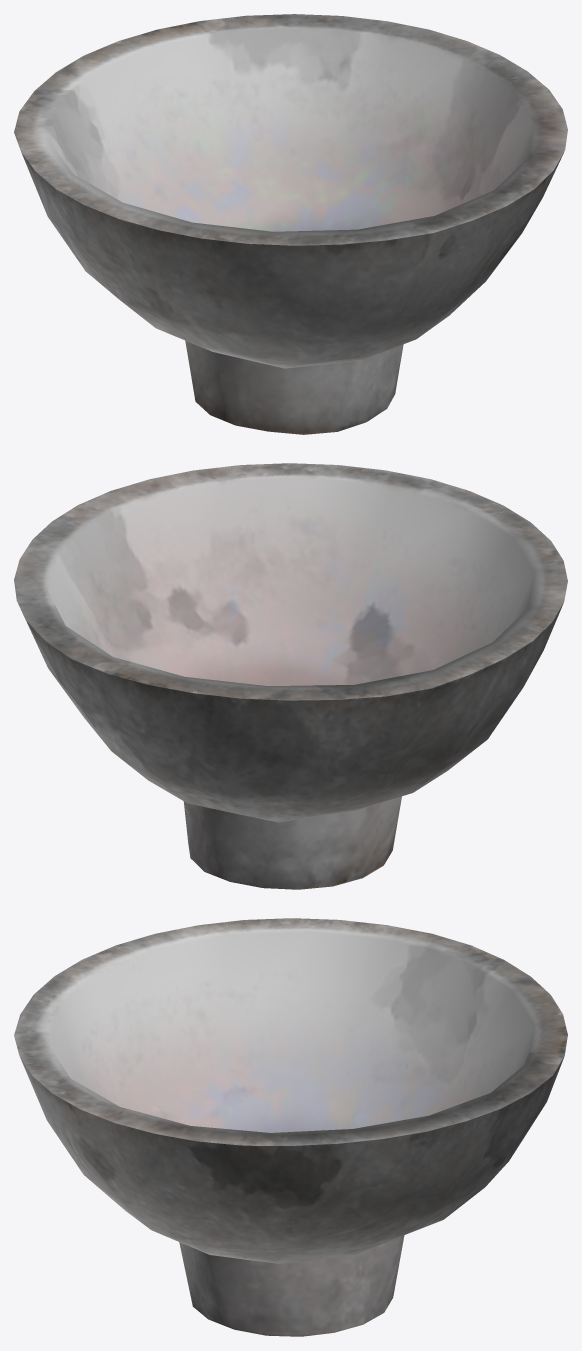
Rendered from SM_Potion_Props_Mortar_01_B.fbx.
3 views of the same model, one above another, from view 1: azimuth 30°, elevation 25°; view 2: azimuth 150°, elevation 25°; view 3: azimuth 270°, elevation 25° (orthographic).
Visible parts, largest first — view 1: SM_Potion_Props_Mortar_01_B_LOD0; view 2: SM_Potion_Props_Mortar_01_B_LOD0; view 3: SM_Potion_Props_Mortar_01_B_LOD0.
Part boxes in pixels (<box>): SM_Potion_Props_Mortar_01_B_LOD0: <box>14,14,567,434</box>; SM_Potion_Props_Mortar_01_B_LOD0: <box>14,463,567,889</box>; SM_Potion_Props_Mortar_01_B_LOD0: <box>14,918,567,1336</box>.
Size of what is drawn, in the model's own units: 15.91 by 8.53 by 16.17.
